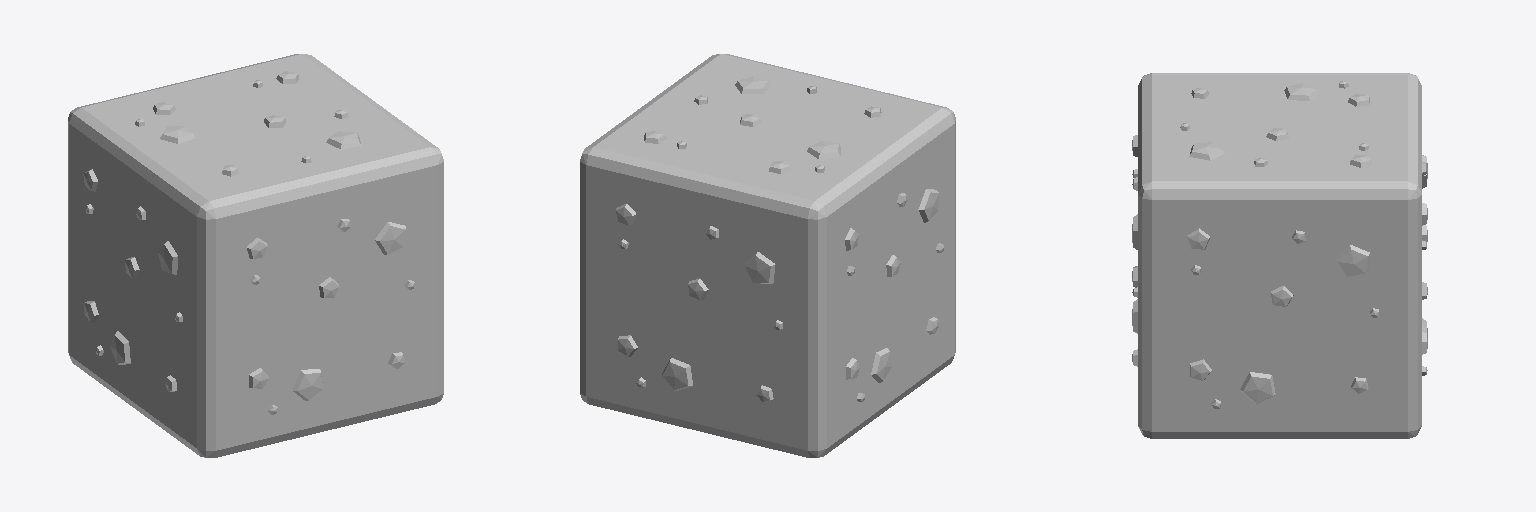
The model's file is dirt.obj.
3 renders of one model, left to right at view 1: azimuth 30°, elevation 25°; view 2: azimuth 150°, elevation 25°; view 3: azimuth 270°, elevation 25°, orthographic.
Parts seen in each view (by area): view 1: dirt; view 2: dirt; view 3: dirt.
Part boxes in pixels (x1,y1,x2,y2): dirt: (68, 54, 443, 457); dirt: (580, 54, 955, 457); dirt: (1132, 73, 1427, 438).
Bounding box in the file's own units: 2 × 2 × 2.